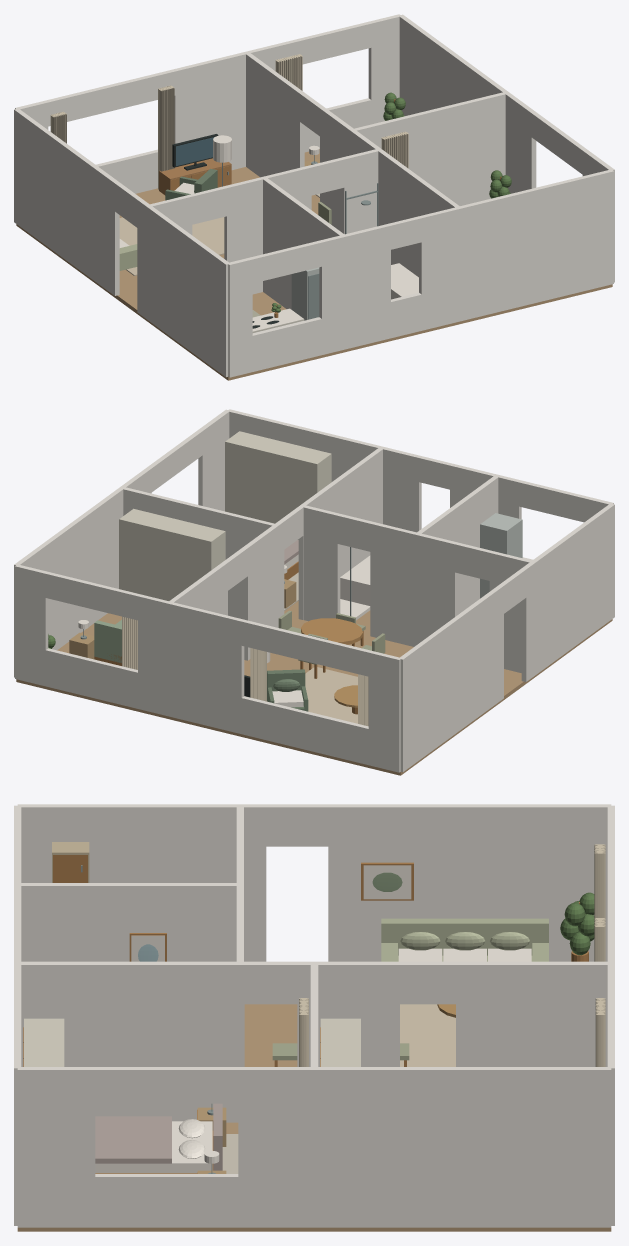
File: structural.glb
3 renders of one model, top to bottom at view 1: azimuth 30°, elevation 25°; view 2: azimuth 150°, elevation 25°; view 3: azimuth 270°, elevation 25°, orthographic. The views are drawn at different scales.
Parts seen in each view (by area): view 1: Model part 8, Model part 9, Model part 6, Model part 10, Model part 7, Model part 12, Model part 11, Model part 13, Model part 1, Model part 14, Model part 2, Model part 41 (+7 smaller); view 2: Model part 6, Model part 9, Model part 12, Model part 7, Model part 8, Model part 10, Model part 195, Model part 248, Model part 11, Model part 13, Model part 1, Model part 14 (+7 smaller); view 3: Model part 7, Model part 9, Model part 10, Model part 13, Model part 233, Model part 20, Model part 14, Model part 1, Model part 6, Model part 8, Model part 232, Model part 195 (+19 smaller).
Part boxes in pixels (bbox=[...]): Model part 8: bbox=[227, 170, 613, 377]; Model part 9: bbox=[14, 109, 229, 377]; Model part 6: bbox=[15, 14, 401, 193]; Model part 10: bbox=[246, 52, 459, 277]; Model part 7: bbox=[399, 14, 614, 282]; Model part 12: bbox=[150, 149, 380, 294]; Model part 11: bbox=[352, 92, 505, 205]; Model part 13: bbox=[263, 178, 345, 309]; Model part 1: bbox=[16, 167, 259, 321]; Model part 14: bbox=[119, 217, 224, 275]; Model part 2: bbox=[148, 292, 343, 380]; Model part 41: bbox=[159, 158, 231, 195]; Model part 6: bbox=[15, 564, 401, 772]; Model part 9: bbox=[399, 503, 614, 772]; Model part 12: bbox=[301, 505, 532, 672]; Model part 7: bbox=[14, 409, 229, 677]; Model part 8: bbox=[228, 409, 613, 560]; Model part 10: bbox=[168, 447, 383, 660]; Model part 195: bbox=[119, 508, 225, 600]; Model part 248: bbox=[225, 431, 331, 539]; Model part 11: bbox=[121, 487, 276, 619]; Model part 13: bbox=[417, 475, 498, 614]; Model part 1: bbox=[170, 619, 533, 775]; Model part 14: bbox=[305, 667, 357, 723]; Model part 7: bbox=[17, 1067, 611, 1227]; Model part 9: bbox=[17, 804, 611, 961]; Model part 10: bbox=[18, 961, 611, 1122]; Model part 13: bbox=[17, 883, 240, 961]; Model part 233: bbox=[95, 1116, 171, 1163]; Model part 20: bbox=[381, 918, 548, 955]; Model part 14: bbox=[400, 1004, 455, 1066]; Model part 1: bbox=[244, 1004, 297, 1066]; Model part 6: bbox=[607, 805, 614, 1225]; Model part 8: bbox=[14, 805, 21, 1225]; Model part 232: bbox=[95, 1121, 212, 1173]; Model part 195: bbox=[320, 1018, 360, 1066].
Size of the model in its own units: 10.12 by 2.9 by 9.67.
